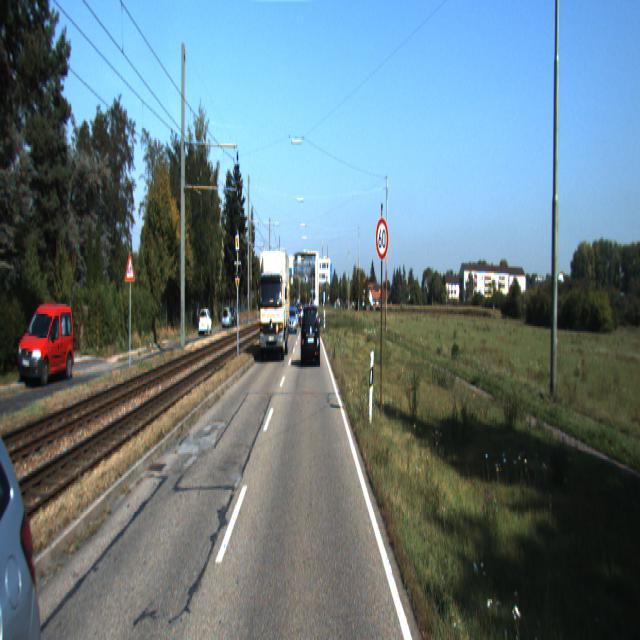Car: (0, 328, 82, 638), (18, 300, 75, 388), (259, 244, 290, 364), (301, 301, 321, 366), (199, 309, 213, 338), (287, 304, 298, 334)
